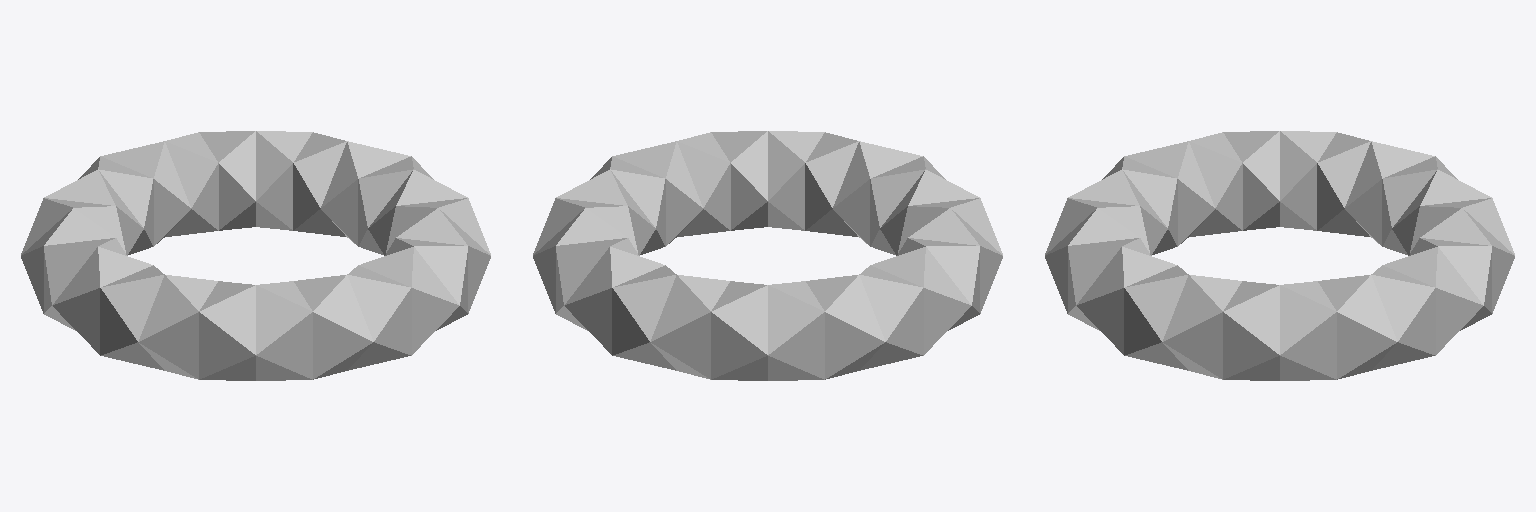
The model's file is tonnetz.obj.
3 views of the same model, side by side, from view 1: azimuth 30°, elevation 25°; view 2: azimuth 150°, elevation 25°; view 3: azimuth 270°, elevation 25° (orthographic).
Parts seen in each view (by area): view 1: Torus.003; view 2: Torus.003; view 3: Torus.003.
Part boxes in pixels (left/top/right/bottom): Torus.003: left=21, top=131, right=490, bottom=380; Torus.003: left=533, top=131, right=1002, bottom=380; Torus.003: left=1045, top=131, right=1514, bottom=380.
Size of the model in its own units: 3.28 by 0.74 by 3.28.